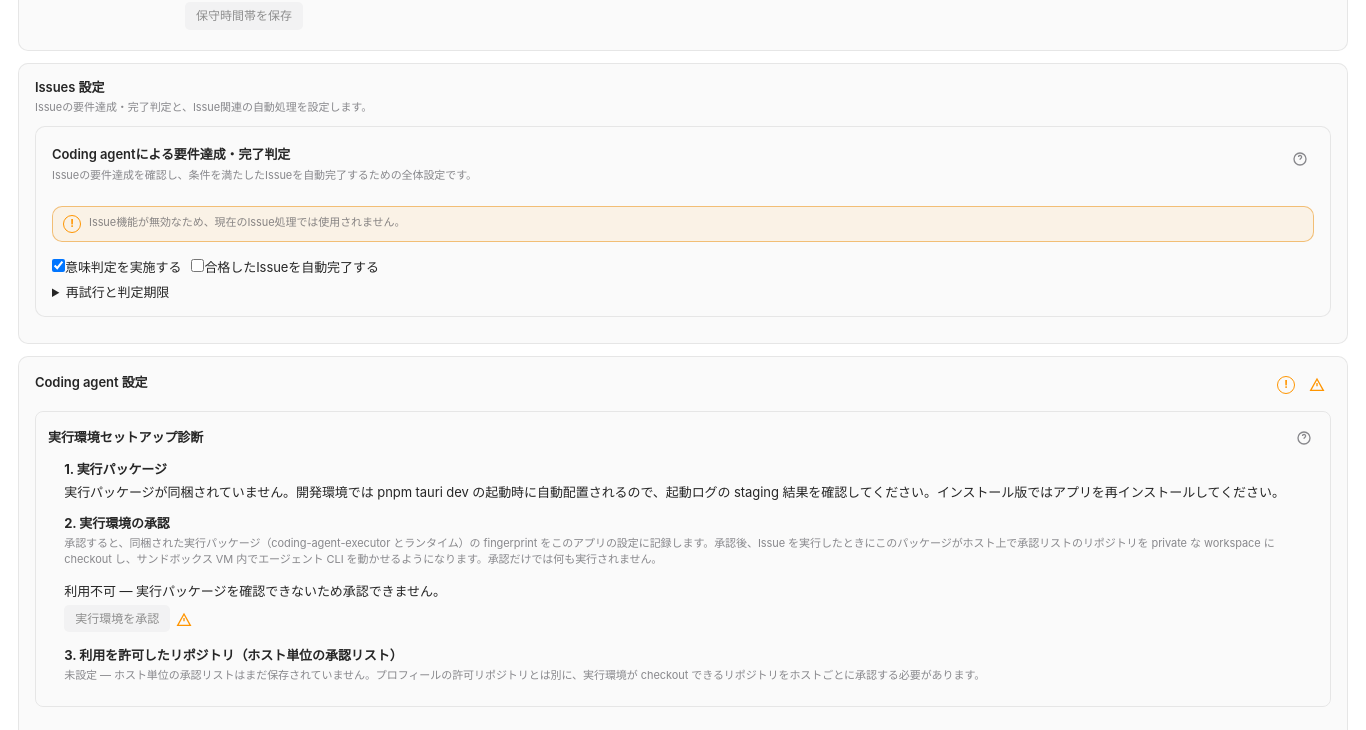
Test case: Settings view switching › connects the coding-agent Settings card and keeps an unconfirmed backend state neutral
(page scrolled)
Click the button named "設定項目の使い方": coordinates (1317, 385) x1=1295 y1=363 x2=1339 y2=407
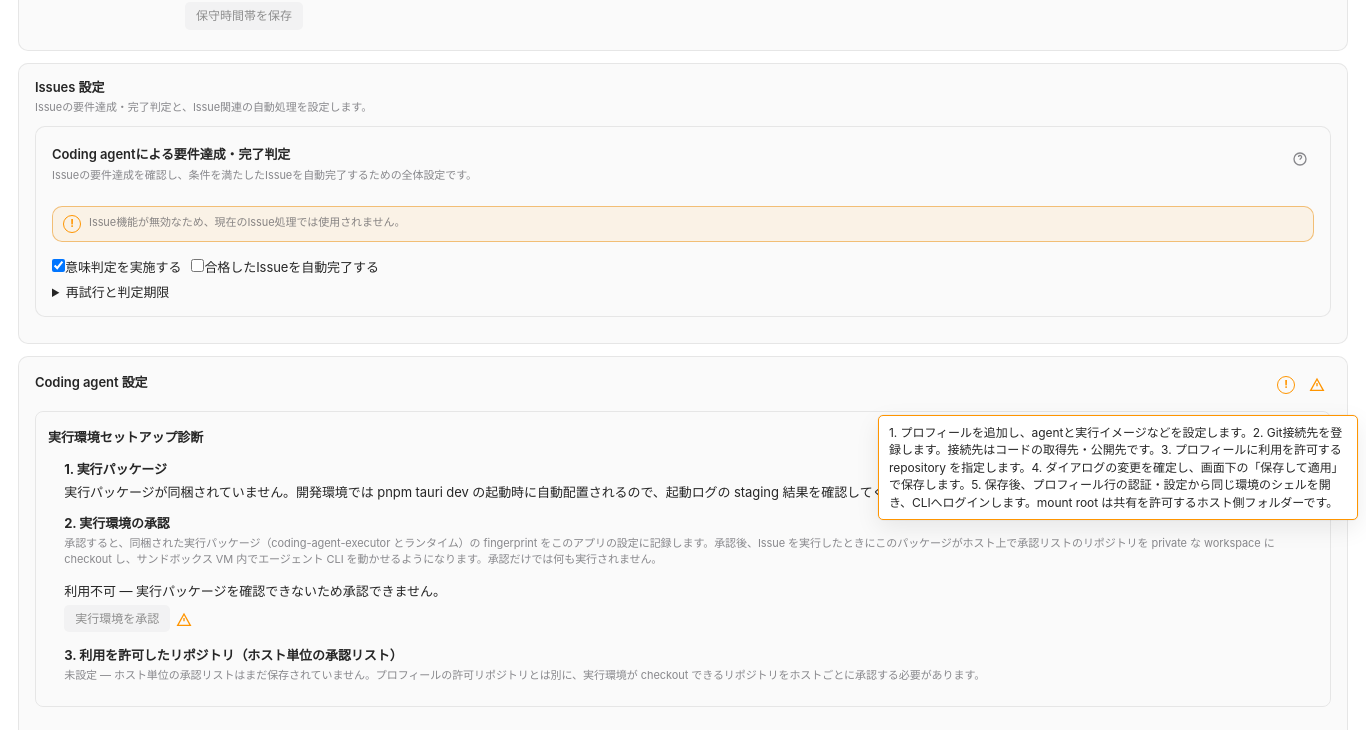
Now the tooltip shows "1. プロフィールを追加し、agentと実行イメージなどを設定します。2. Git接続先を登録します。接続先はコードの取得先・公開先です。3. プロフィールに利用を許可する repository を指定します。4. ダイアログの変更を確定し、画面下の「保存して適用」で保存します。5. 保存後、プロフィール行の認証・設定", box x1=889 y1=425 x2=1344 y2=510
Click the button named "実行 backend blocker": coordinates (1286, 385) x1=1277 y1=376 x2=1295 y2=394
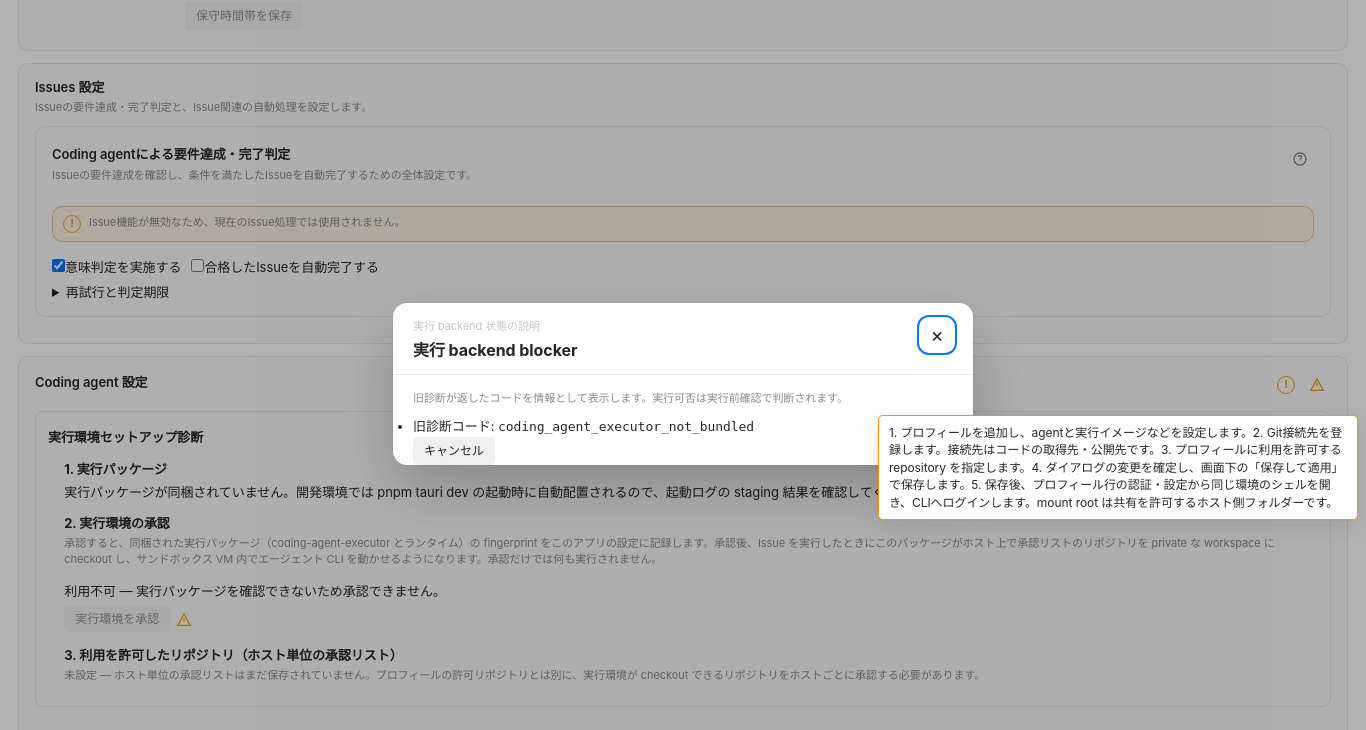
Now the text "coding_agent_executor_not_bundled" is shown, box x1=498 y1=419 x2=754 y2=434
